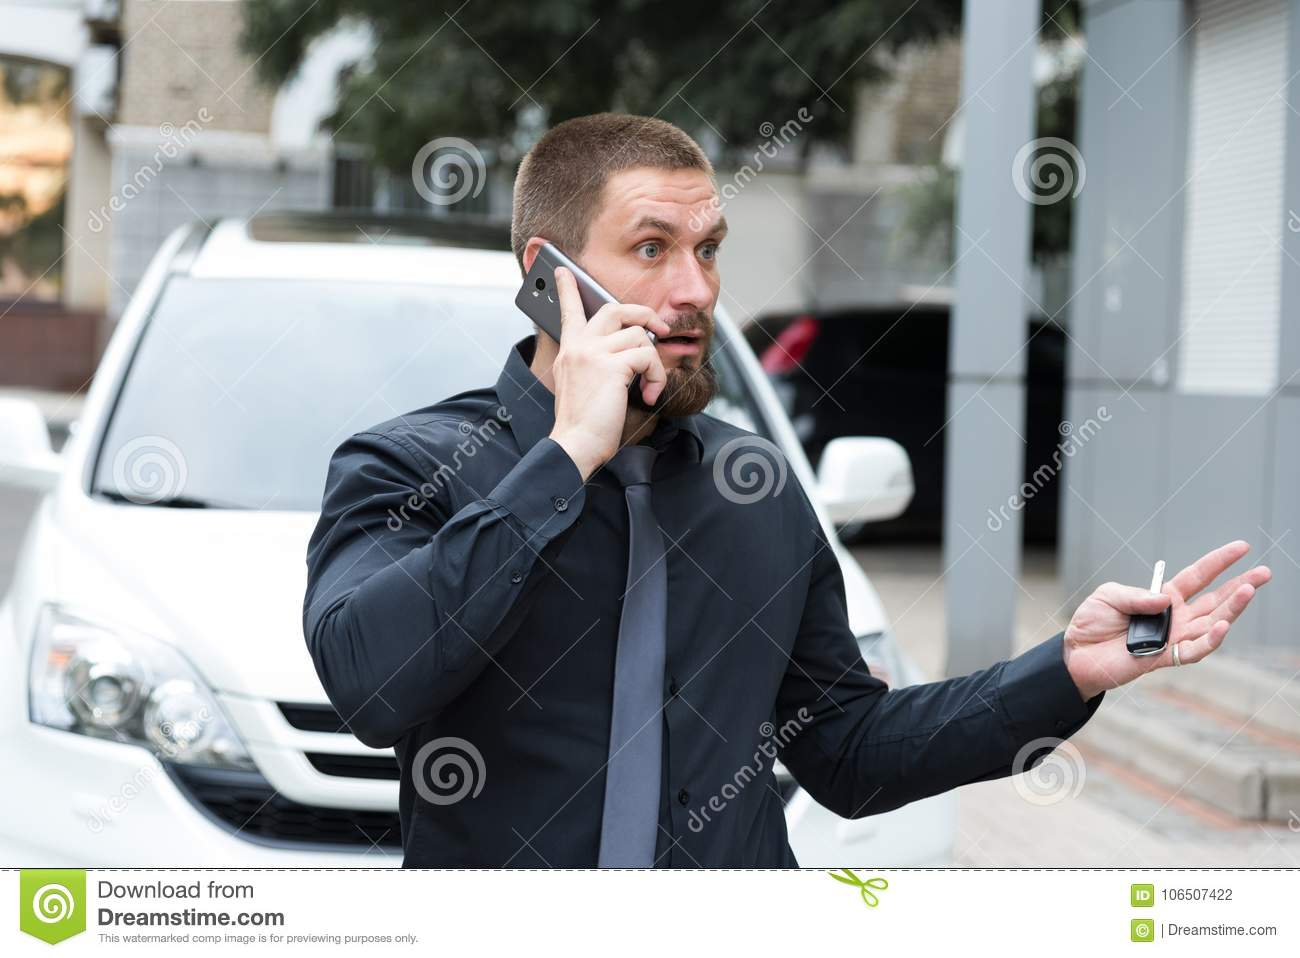phone: (517, 240, 657, 380)
talk: (513, 202, 727, 469)
